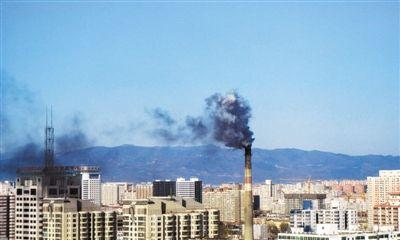smoke: (187, 88, 256, 151)
